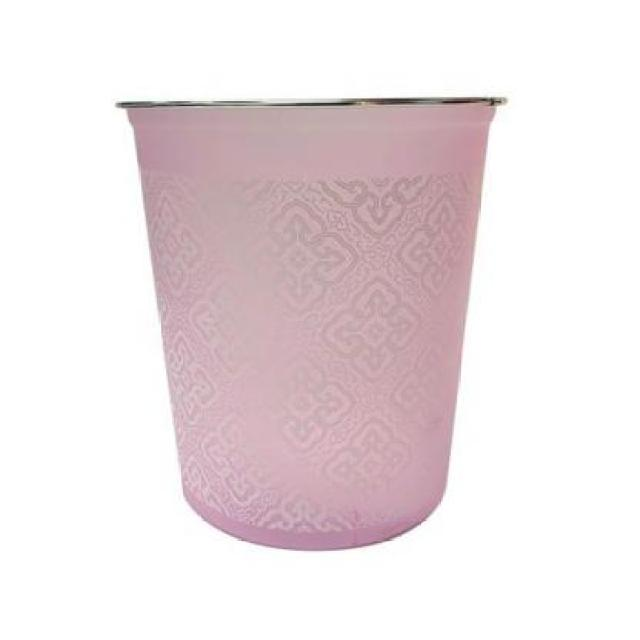dustbin: (112, 94, 515, 559)
